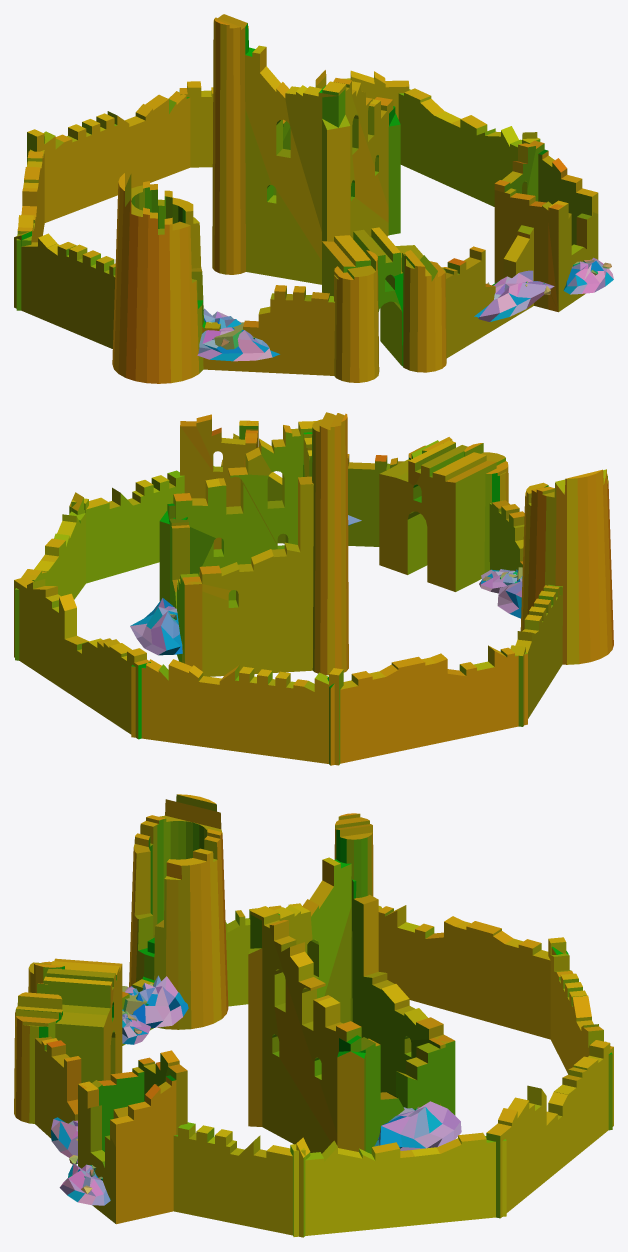
Rendered from grainfields-ruin.glb.
3 renders of one model, top to bottom at view 1: azimuth 30°, elevation 25°; view 2: azimuth 150°, elevation 25°; view 3: azimuth 270°, elevation 25°, orthographic. The views are drawn at different scales.
Parts seen in each view (by area): view 1: ruin; view 2: ruin; view 3: ruin.
Boxes of the visible parts, x1=… form: ruin: x1=14, y1=14, x2=613, y2=383; ruin: x1=14, y1=412, x2=613, y2=765; ruin: x1=14, y1=794, x2=613, y2=1237.
Size of the model in its own units: 79.86 by 39 by 79.08.
